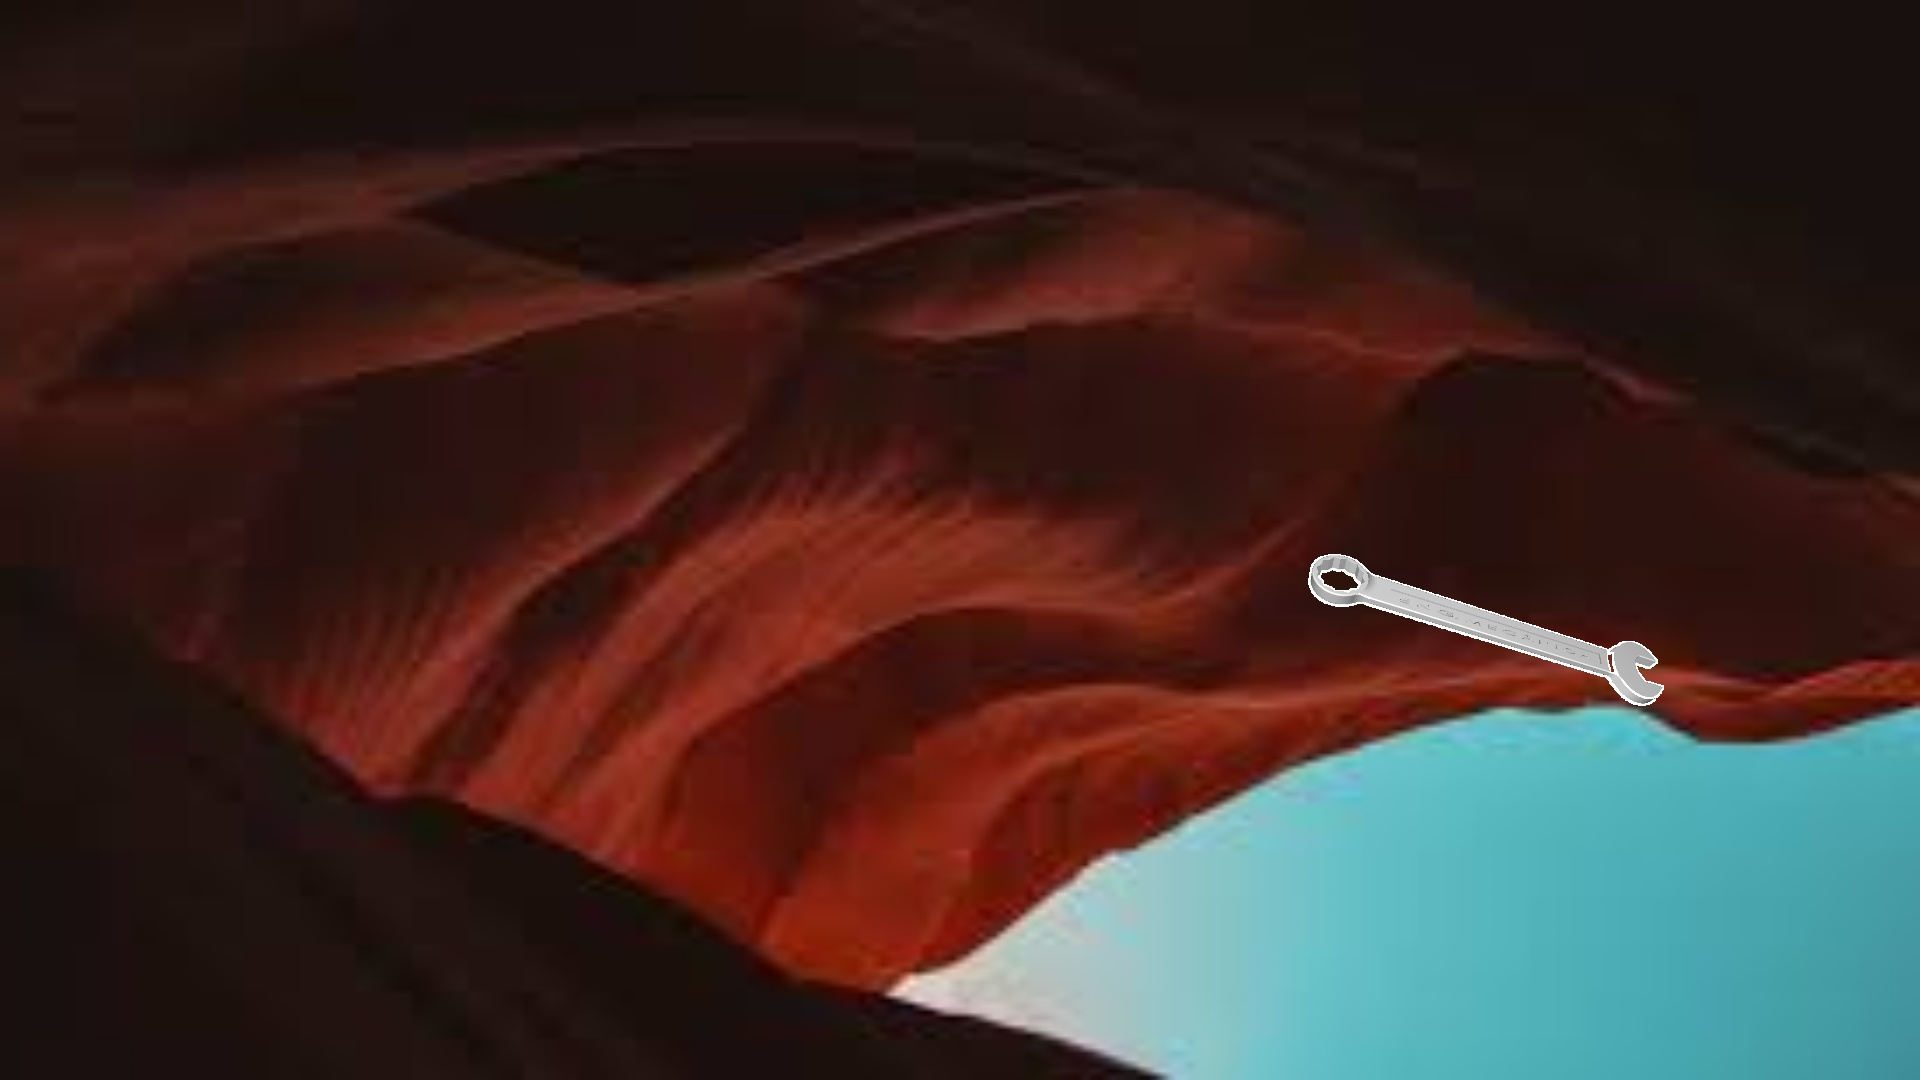Mixed Key: (1308, 554, 1663, 705)
